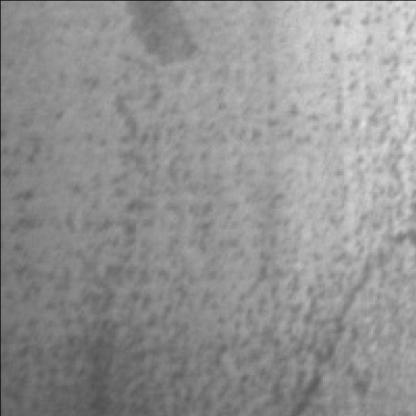pitted_surface: (4, 0, 393, 395)
